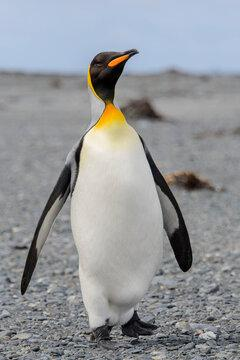king: (20, 28, 205, 351)
